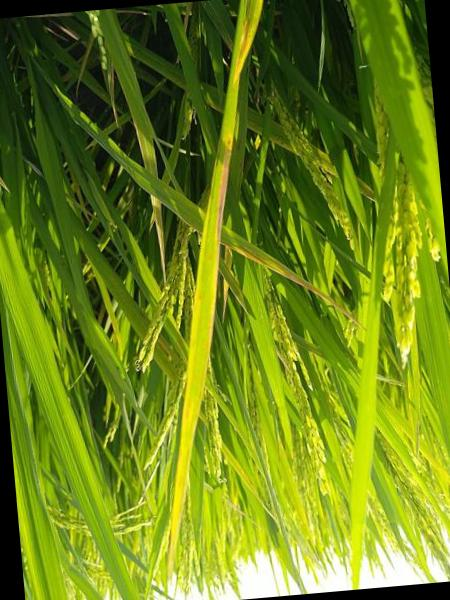Leaf Blight: (170, 0, 262, 557), (221, 225, 366, 329)
